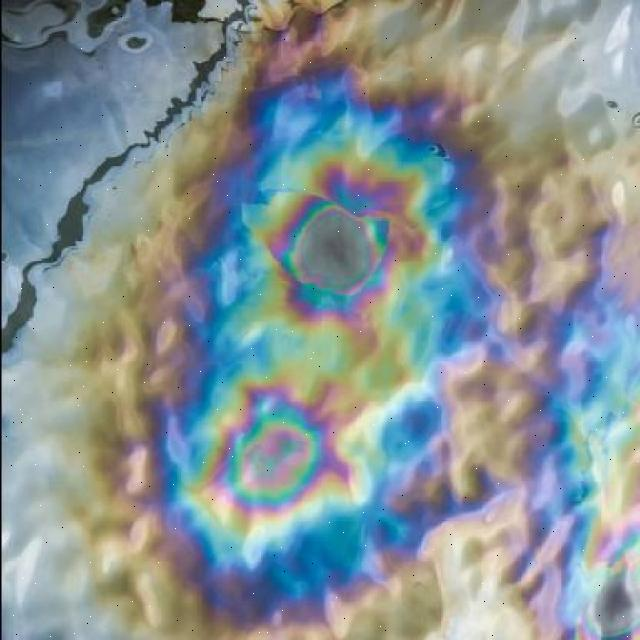rainbow: (83, 1, 640, 640)
